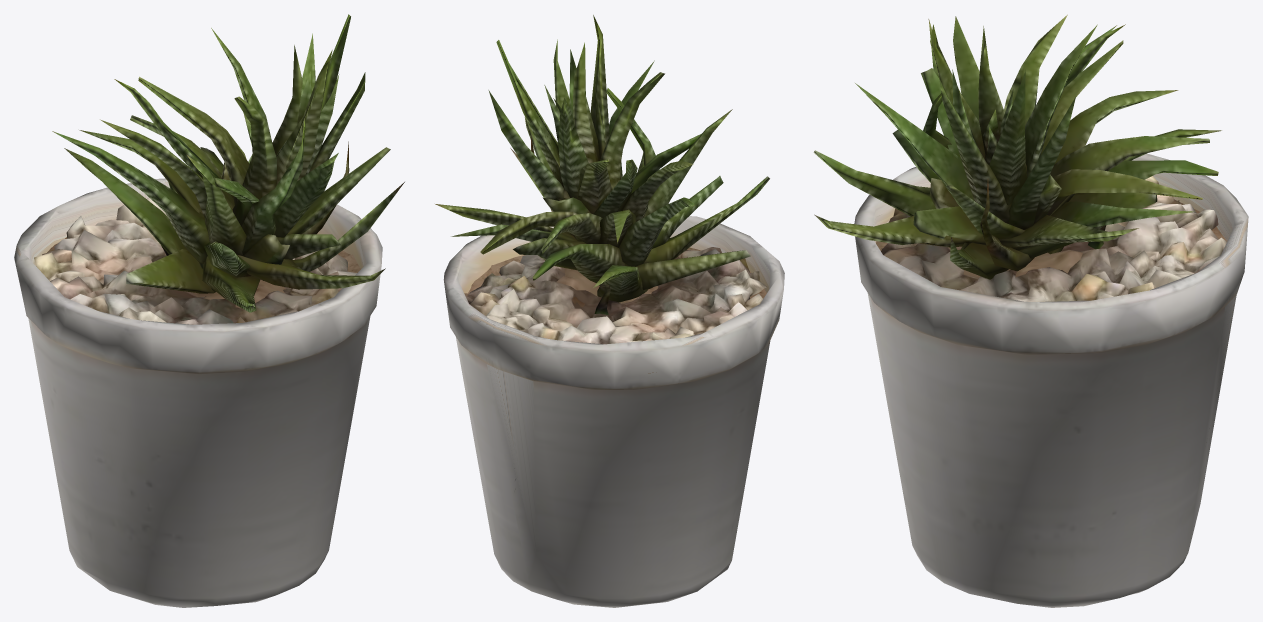
Rendered from potted_plant_04.glb.
3 renders of one model, left to right at view 1: azimuth 30°, elevation 25°; view 2: azimuth 150°, elevation 25°; view 3: azimuth 270°, elevation 25°, orthographic. The views are drawn at different scales.
Visible parts, largest first — view 1: potted_plant_04_ground; view 2: potted_plant_04_ground; view 3: potted_plant_04_ground.
Part boxes in pixels (x1,y1,x2,y2): potted_plant_04_ground: (14, 14, 404, 607); potted_plant_04_ground: (435, 15, 784, 607); potted_plant_04_ground: (813, 14, 1248, 607).
Size of the model in its own units: 0.1672 by 0.2669 by 0.1833.
Materials: 1 (1 with a texture image).
